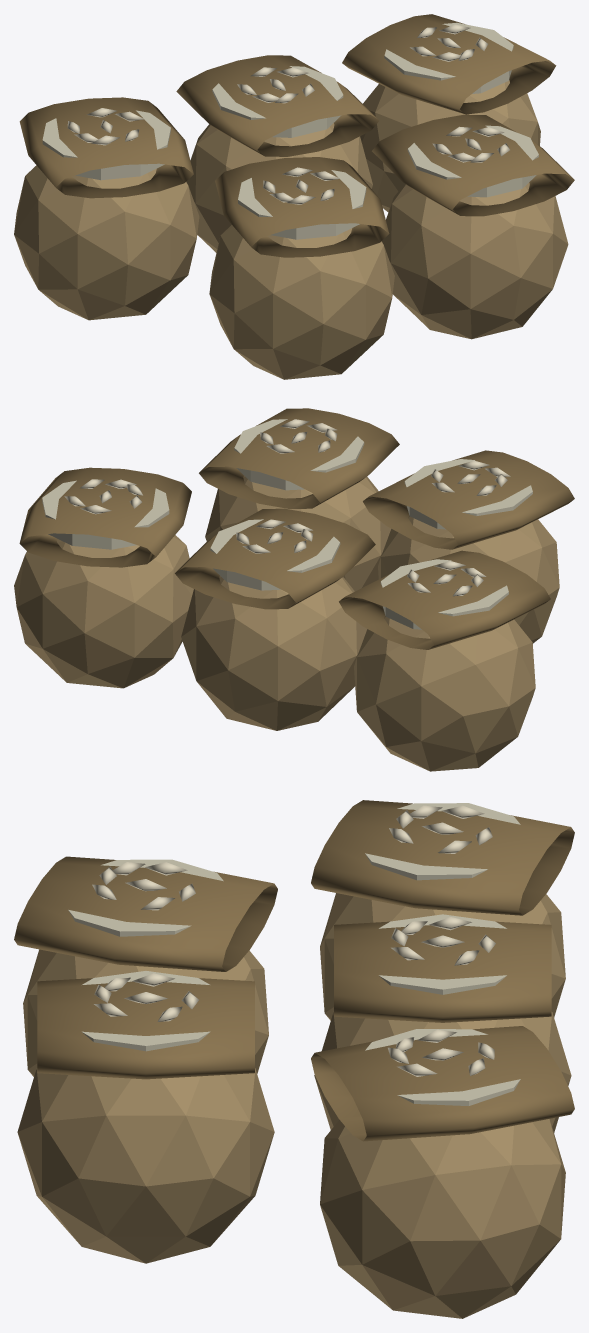
File: pile-milledRice-5.gltf
3 renders of one model, top to bottom at view 1: azimuth 30°, elevation 25°; view 2: azimuth 150°, elevation 25°; view 3: azimuth 270°, elevation 25°, orthographic. The views are drawn at different scales.
Visible parts, largest first — view 1: pile-milledRice-5; view 2: pile-milledRice-5; view 3: pile-milledRice-5.
Part boxes in pixels (<box>): pile-milledRice-5: <box>14,14,574,379</box>; pile-milledRice-5: <box>14,408,574,771</box>; pile-milledRice-5: <box>14,800,574,1318</box>.
Size of the model in its own units: 0.7915 by 0.2915 by 0.567.
